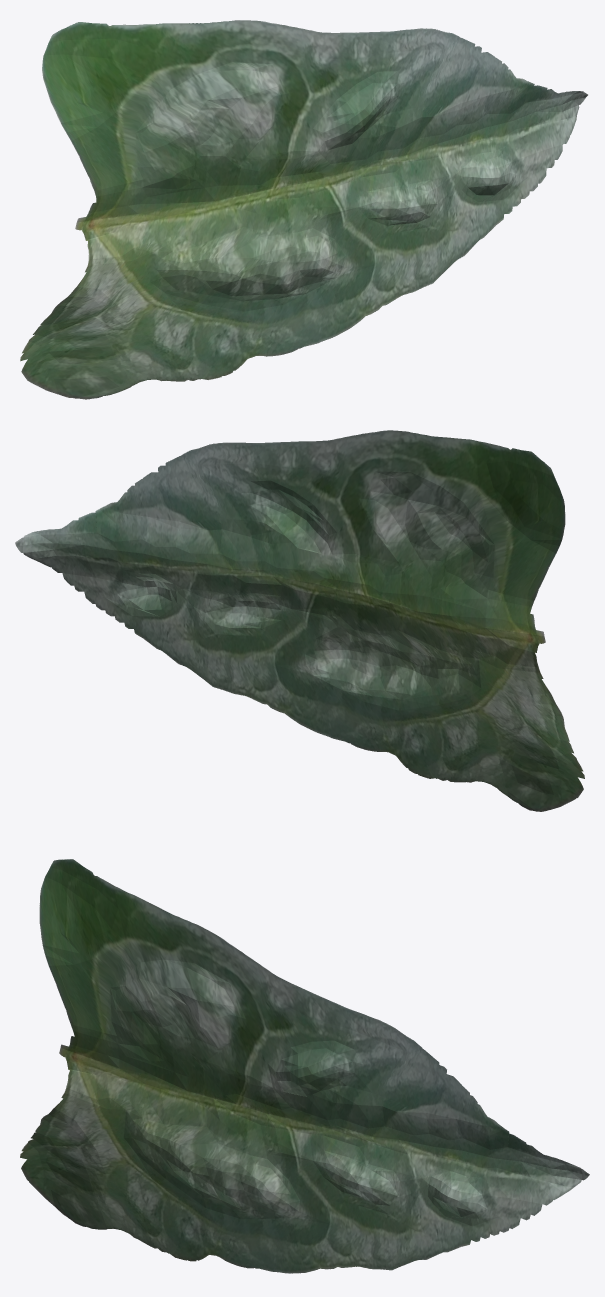
Rendered from CowpeaLeaf_unifoliate.obj.
3 views of the same model, one above another, from view 1: azimuth 30°, elevation 25°; view 2: azimuth 150°, elevation 25°; view 3: azimuth 330°, elevation 25° (orthographic). The views are drawn at different scales.
Visible parts, largest first — view 1: leaf; view 2: leaf; view 3: leaf.
Boxes of the visible parts, x1,y1,x2,y2 form: leaf: [20, 20, 587, 399]; leaf: [15, 430, 584, 811]; leaf: [20, 859, 589, 1273].
Size of the model in its own units: 1.11 by 0.7029 by 0.1256.
